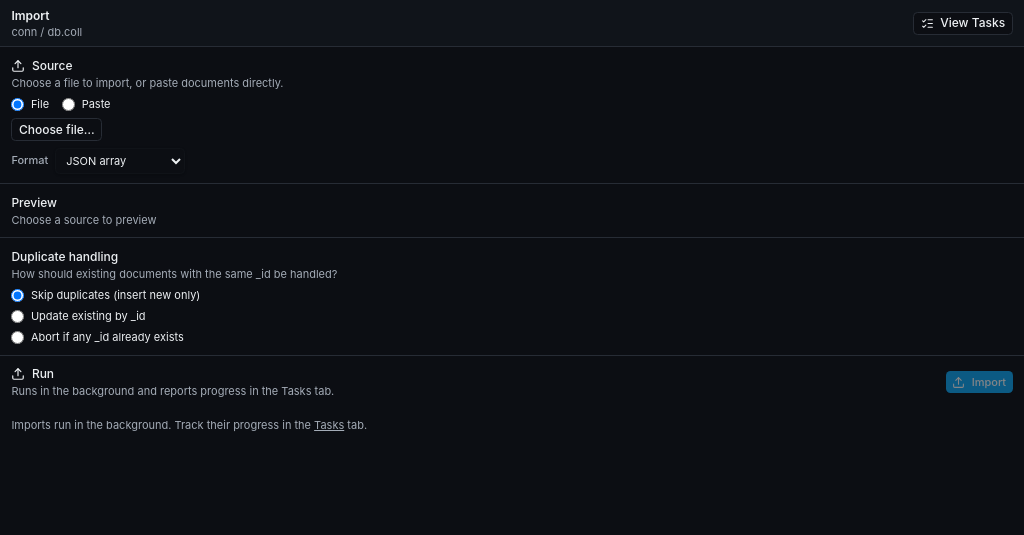
Test: ImportView sources and options › quote validity requires a single ASCII character
Click the button with test id "import-pick-file-btn".
click(57, 130)  # box [11,118,102,141]
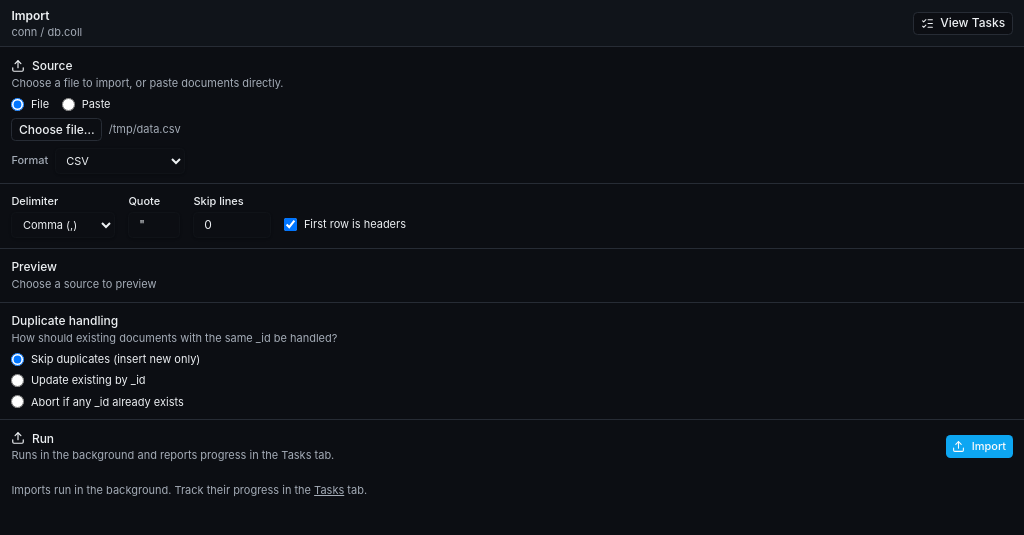
Expected: the field with test id "import-csv-quote" is shown
Replace the text in the field with test id "import-csv-quote" with "€" at x=154, y=225, box [128,212,180,238]
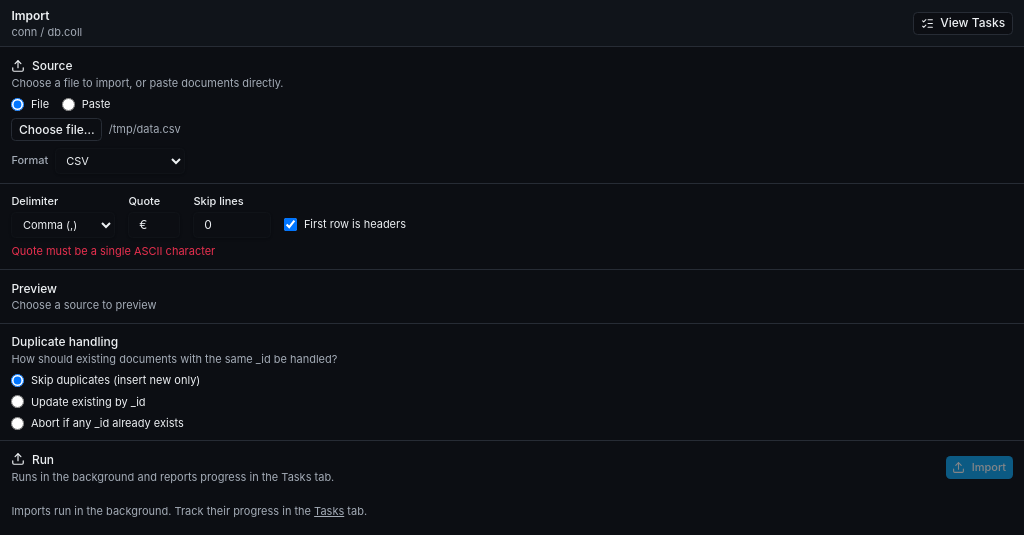
Expected: the text "Quote must be a single ASCII character" is shown, [11,244,215,258]
Expected: the button with test id "import-run-btn" is disabled, [946,456,1013,479]
